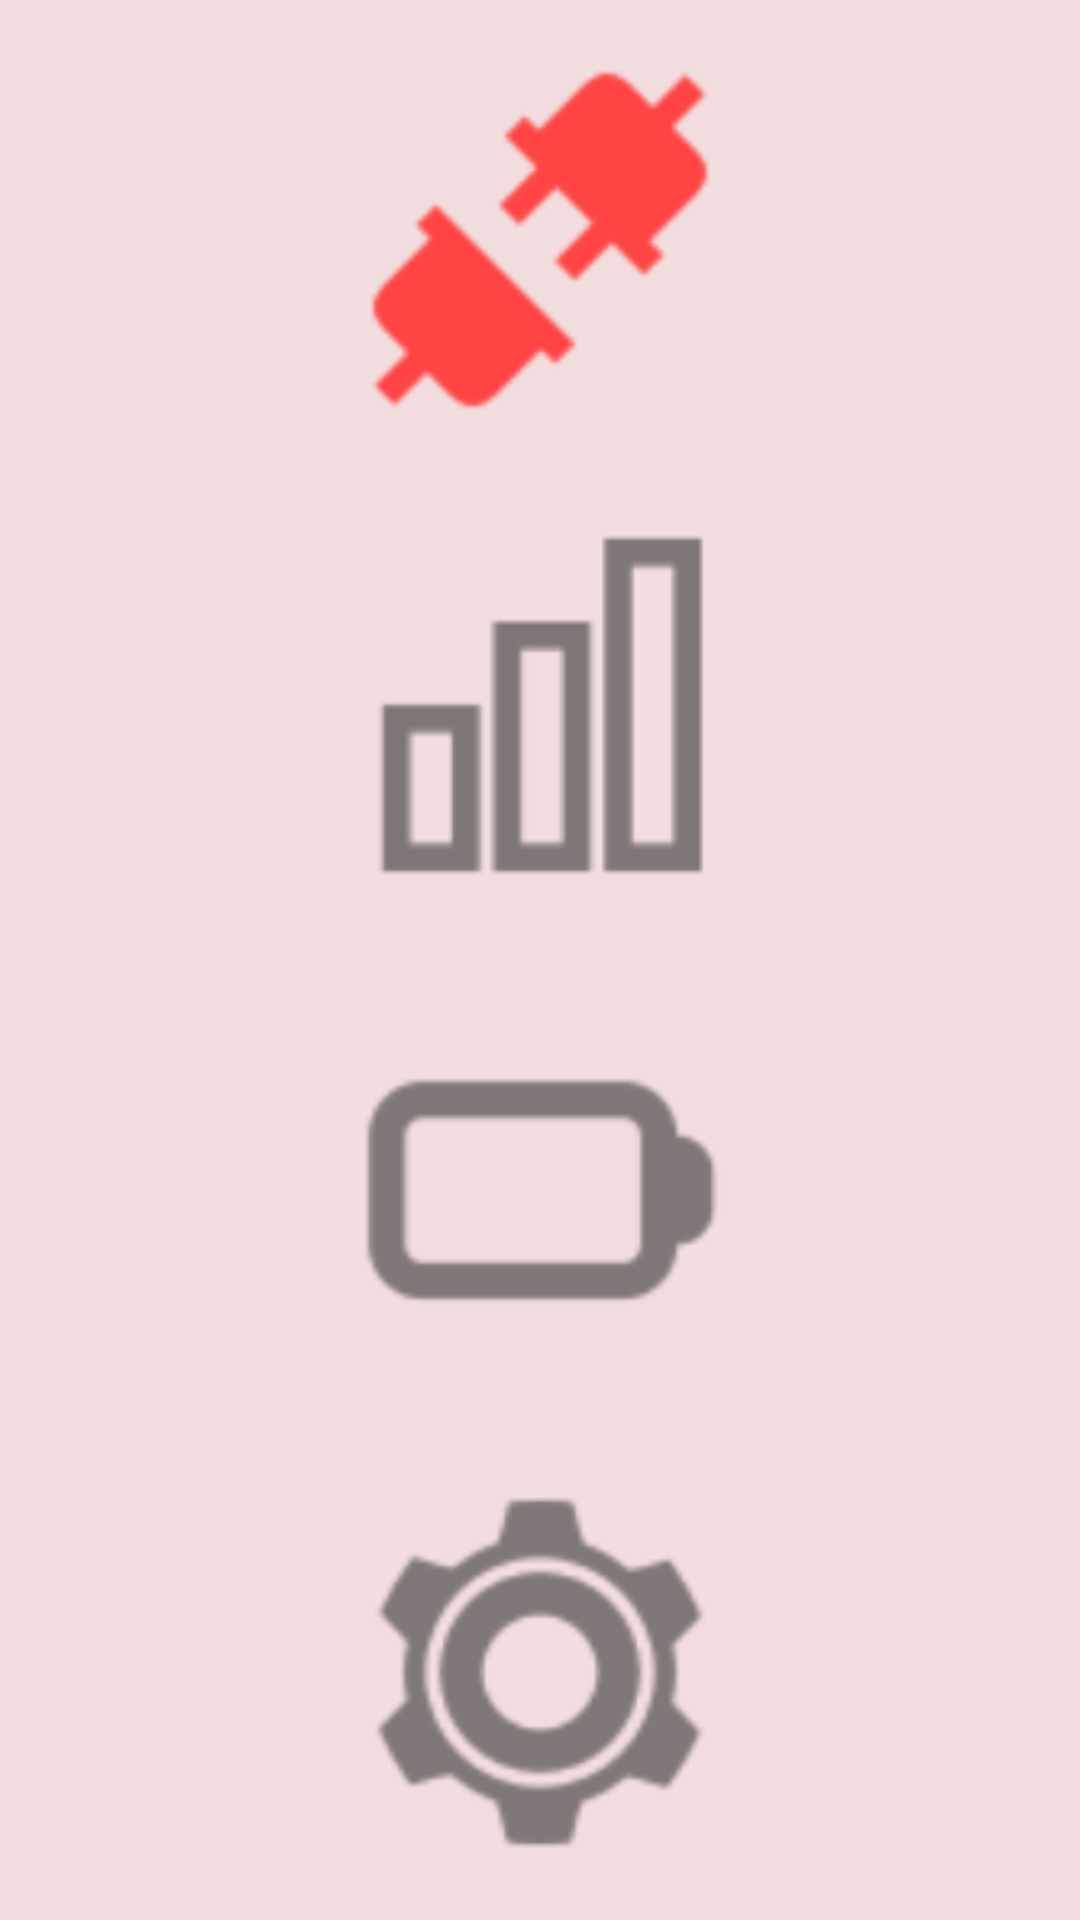

Icon click points for this 1080*1920 phone screenshot, format (x,y):
battery: (541,1190)
connection: (540,240)
settings: (540,1672)
signal: (541,705)
